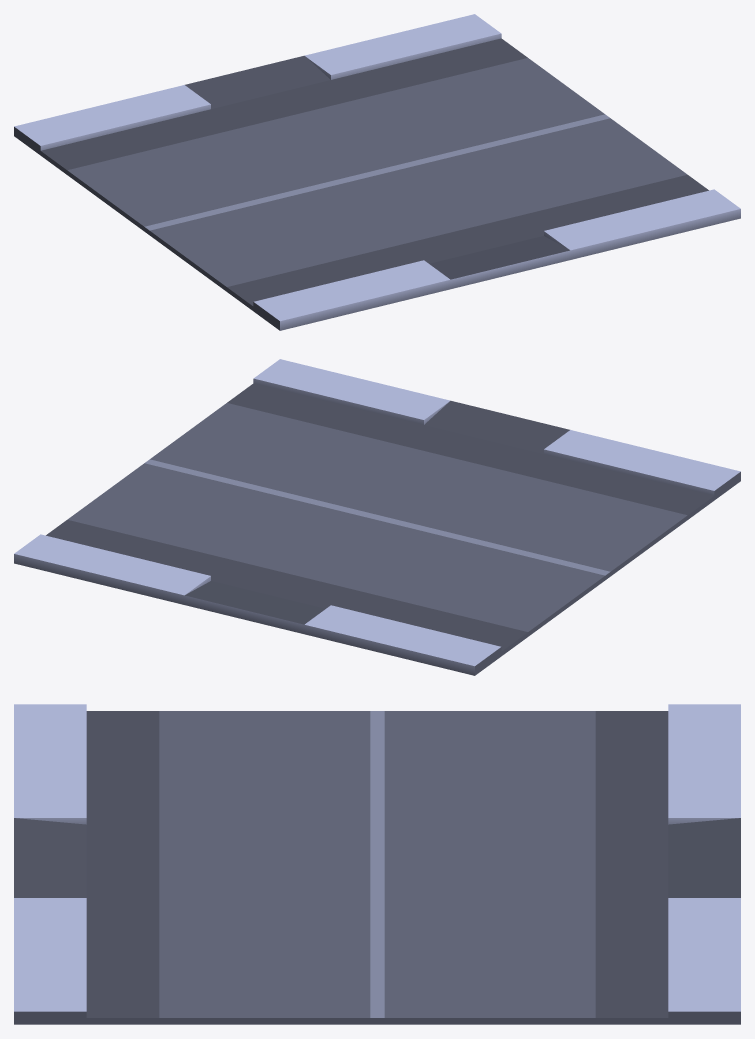
File: road-driveway-double.fbx
3 renders of one model, top to bottom at view 1: azimuth 30°, elevation 25°; view 2: azimuth 150°, elevation 25°; view 3: azimuth 270°, elevation 25°, orthographic. The views are drawn at different scales.
Parts seen in each view (by area): view 1: road-driveway-double; view 2: road-driveway-double; view 3: road-driveway-double.
Boxes of the visible parts, x1,y1,x2,y2 form: road-driveway-double: (14,14,740,330); road-driveway-double: (14,359,740,675); road-driveway-double: (14,704,740,1024).
Size of the model in its own units: 100 by 2 by 100.
